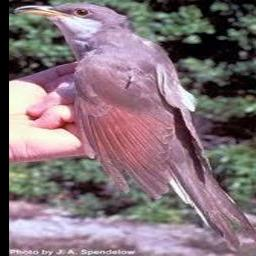Cuckoo: (16, 2, 256, 252)
